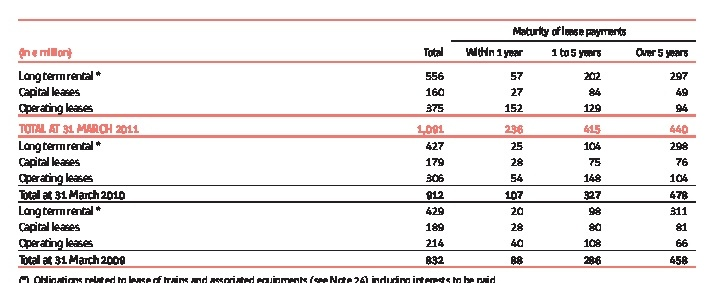table: (0, 0, 716, 283)
